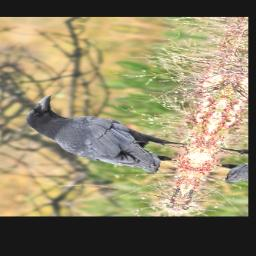Crow: (9, 93, 204, 177)
